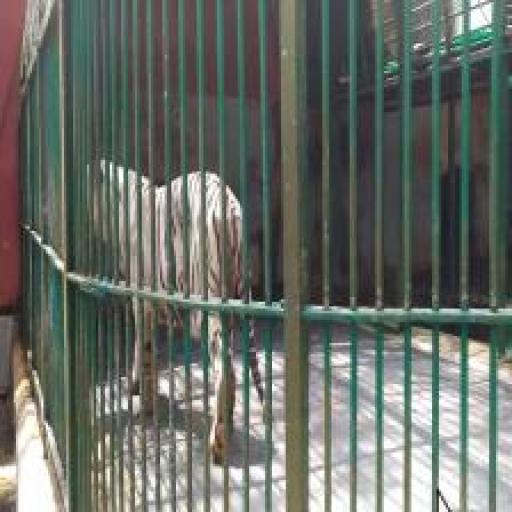Tiger: (94, 160, 126, 276), (208, 313, 222, 460), (205, 172, 221, 299), (187, 172, 202, 297), (227, 187, 243, 299), (171, 176, 183, 292), (154, 185, 167, 292), (249, 318, 264, 404), (128, 169, 138, 286), (143, 300, 153, 413), (141, 176, 151, 288), (228, 315, 236, 428), (132, 299, 140, 392), (191, 309, 202, 338), (174, 308, 183, 325), (158, 304, 168, 319)
